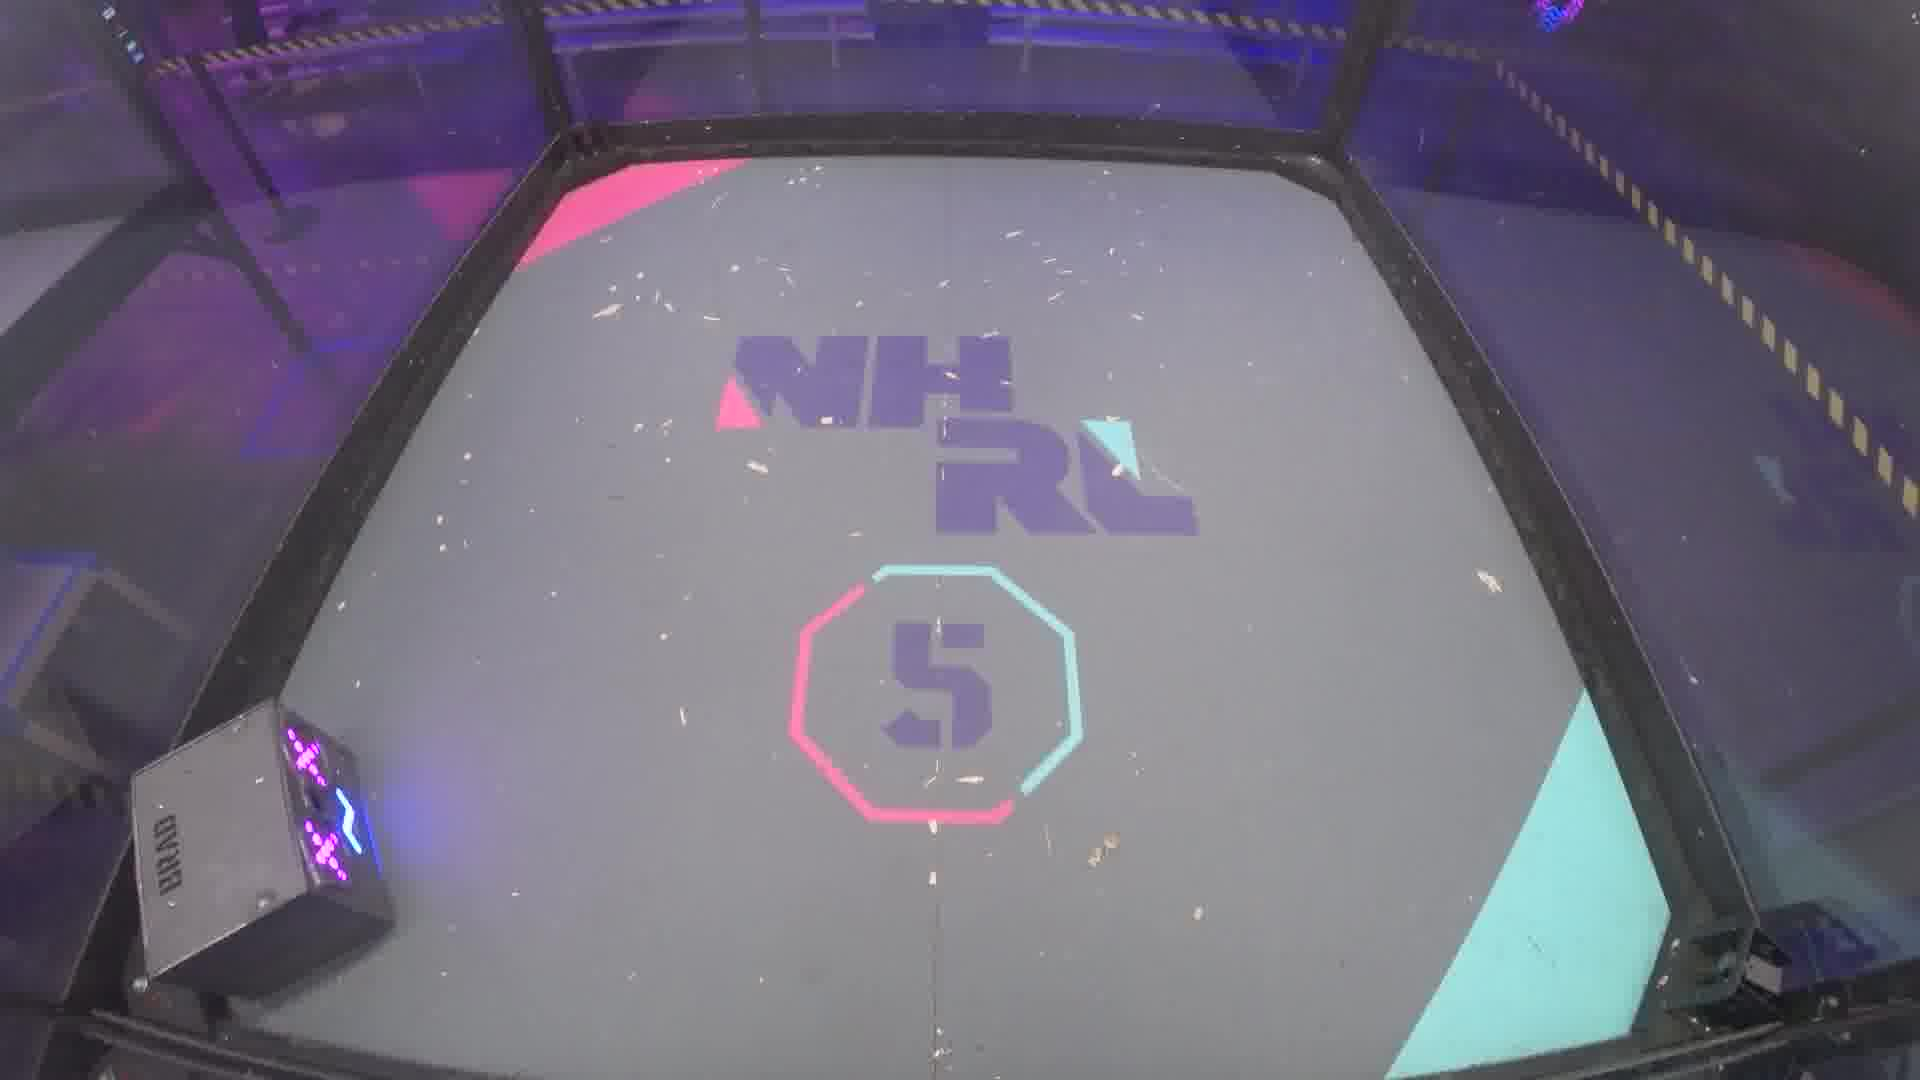housebot: (127, 696, 396, 1002)
